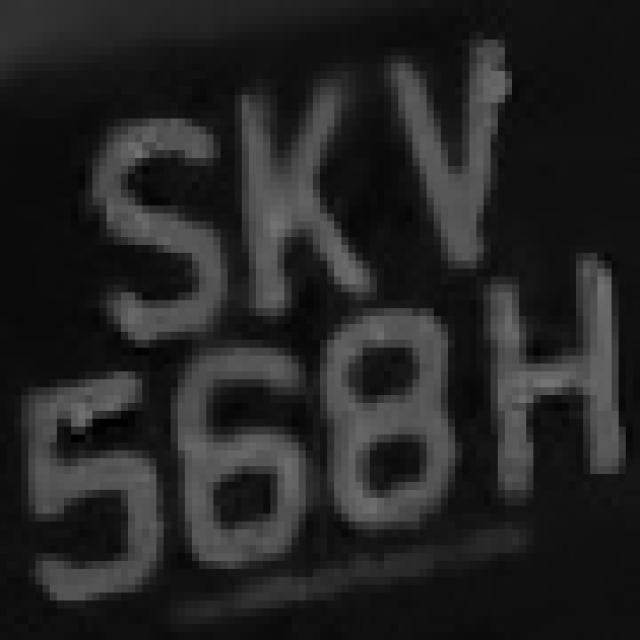5: (21, 348, 171, 624)
6: (178, 316, 320, 577)
8: (284, 285, 490, 545)
H: (469, 253, 640, 506)
K: (199, 71, 370, 324)
S: (64, 110, 242, 348)
V: (363, 32, 526, 284)
